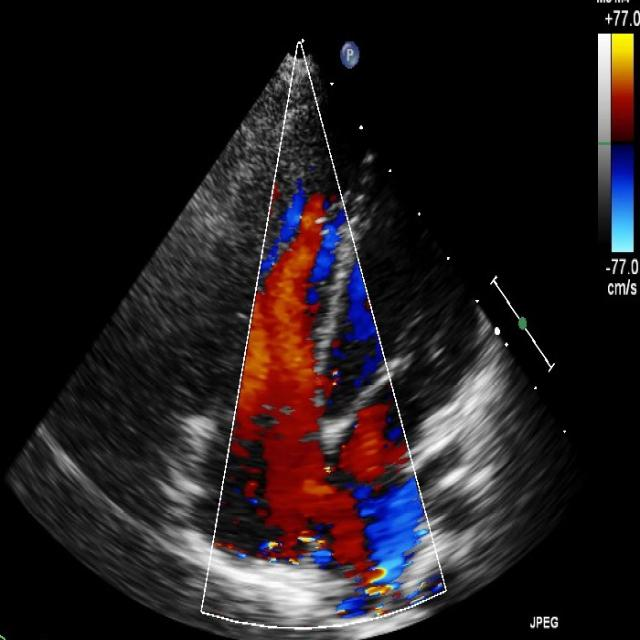ASDType2: (232, 406, 423, 615)
